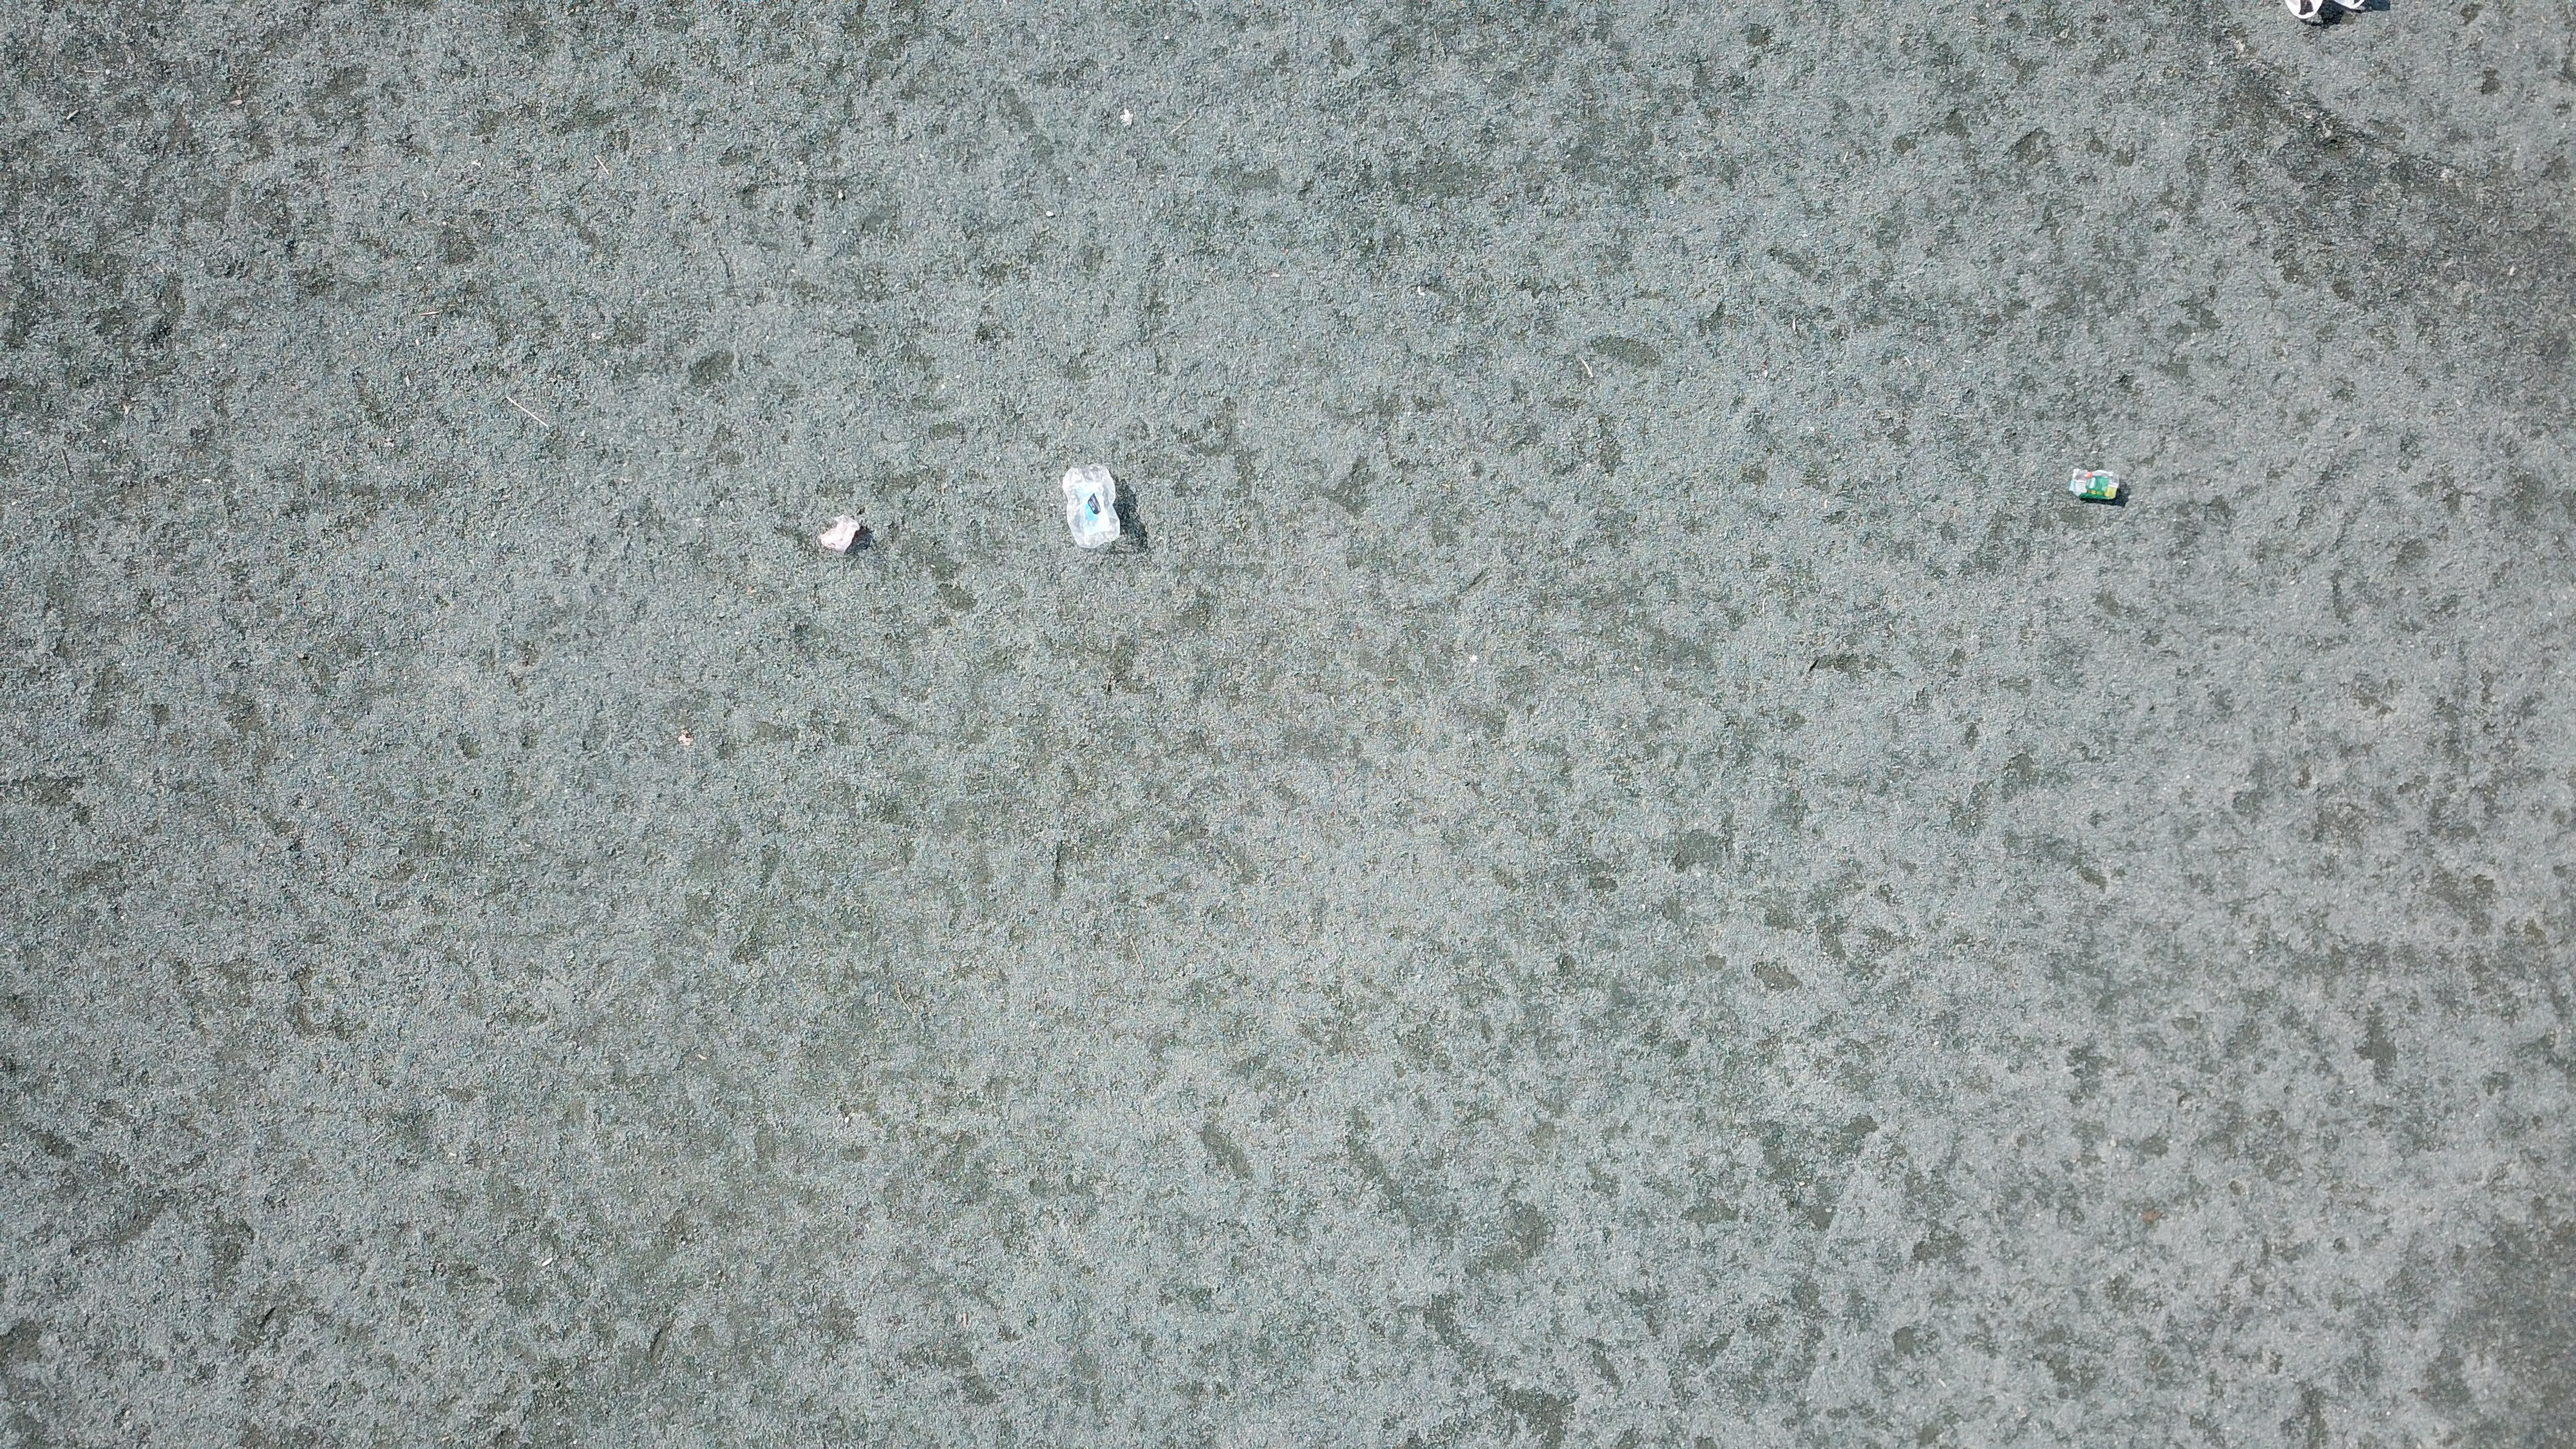Plastic: (1058, 464, 1125, 554), (2066, 462, 2132, 510), (814, 511, 867, 559), (2266, 0, 2383, 21)
